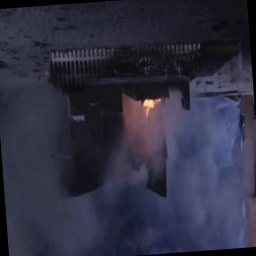fire: (131, 92, 169, 122)
smoke: (21, 123, 237, 256)
